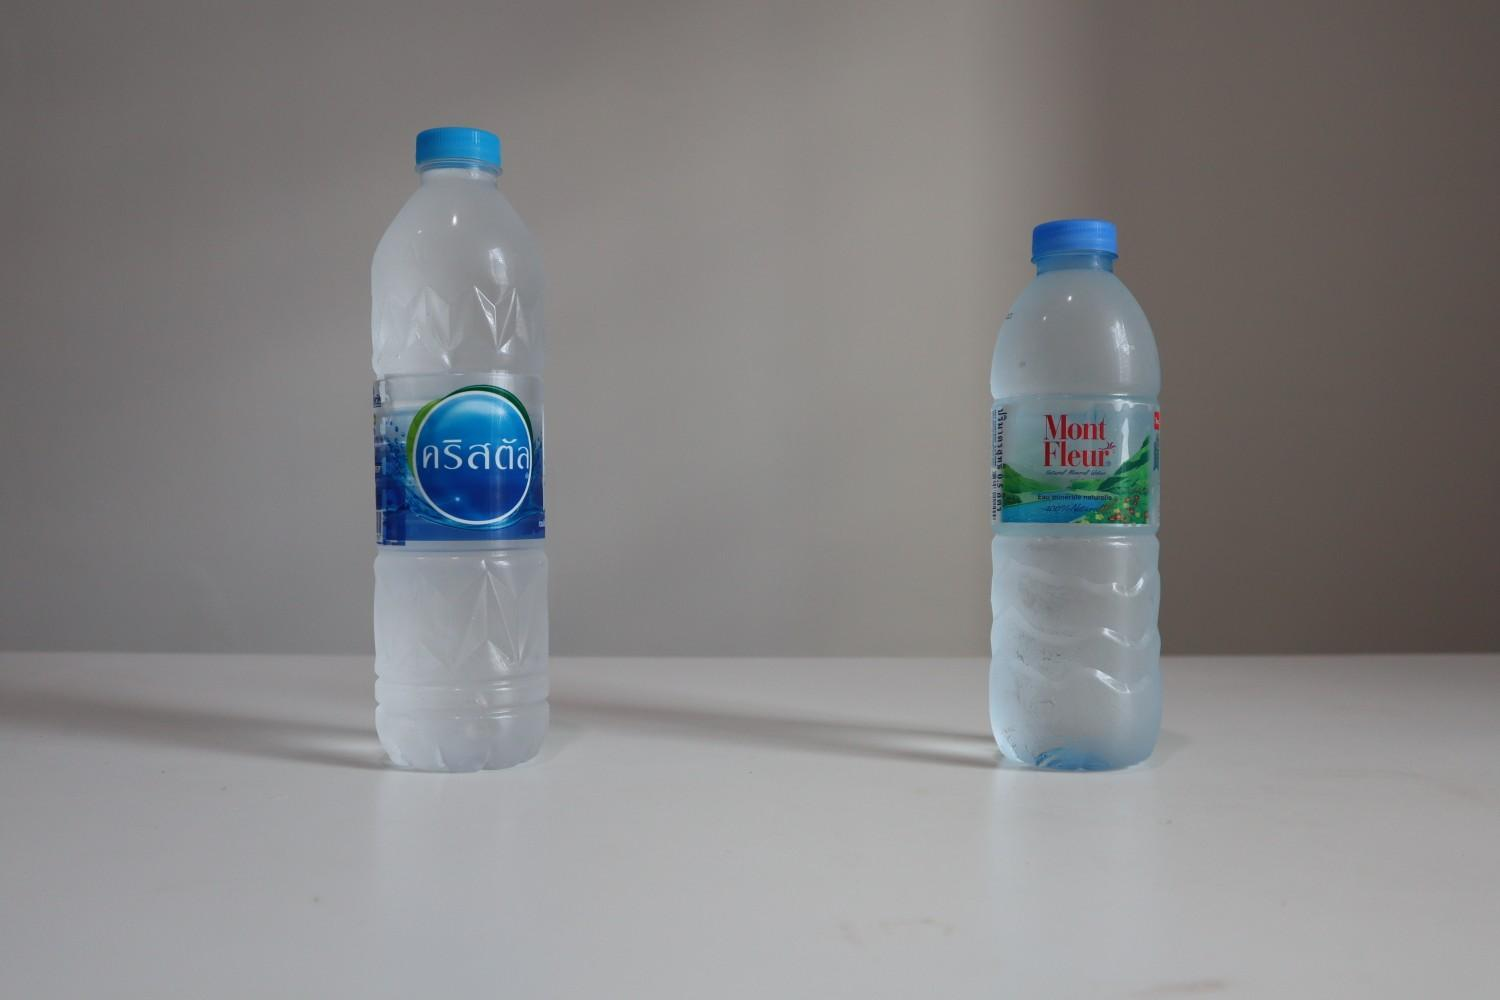bottle: (346, 110, 570, 787), (970, 205, 1182, 780)
